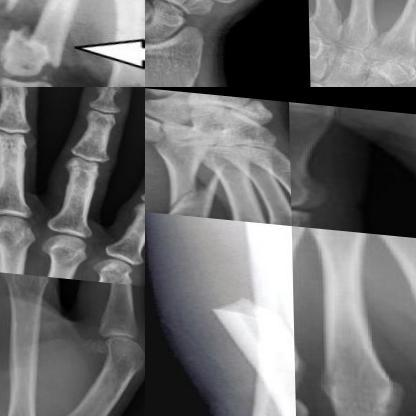fracture: (189, 282, 293, 357), (145, 159, 229, 217), (3, 17, 78, 74)
